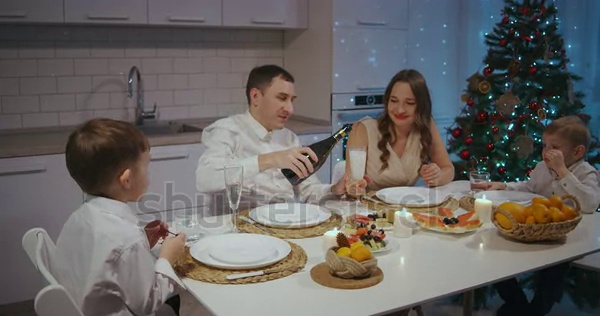No Mask: (251, 62, 306, 133), (381, 69, 431, 131), (537, 122, 594, 170)
